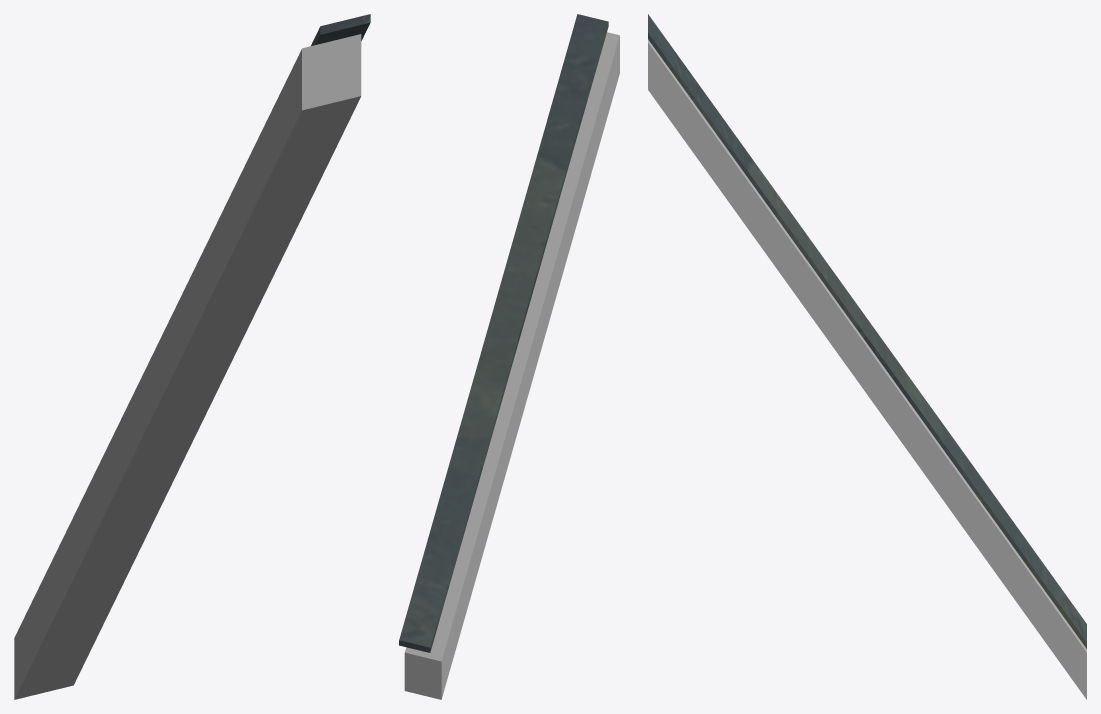
File: CM_SlateRoofKit01_Verge2m_56p9.fbx
3 views of the same model, side by side, from view 1: azimuth 30°, elevation 25°; view 2: azimuth 150°, elevation 25°; view 3: azimuth 270°, elevation 25° (orthographic). The views are drawn at different scales.
Parts seen in each view (by area): view 1: CM_SlateRoofKit01_Verge2m_56p9_Timber, CM_SlateRoofKit01_Verge2m_56p9_Slate; view 2: CM_SlateRoofKit01_Verge2m_56p9_Slate, CM_SlateRoofKit01_Verge2m_56p9_Timber; view 3: CM_SlateRoofKit01_Verge2m_56p9_Timber, CM_SlateRoofKit01_Verge2m_56p9_Slate.
Boxes of the visible parts, x1,y1,x2,y2 form: CM_SlateRoofKit01_Verge2m_56p9_Timber: (14, 34, 361, 699); CM_SlateRoofKit01_Verge2m_56p9_Slate: (311, 14, 370, 45); CM_SlateRoofKit01_Verge2m_56p9_Slate: (399, 14, 608, 652); CM_SlateRoofKit01_Verge2m_56p9_Timber: (404, 32, 619, 699); CM_SlateRoofKit01_Verge2m_56p9_Timber: (648, 39, 1086, 699); CM_SlateRoofKit01_Verge2m_56p9_Slate: (648, 14, 1086, 648).
Size of the model in its own units: 0.15 by 1.84 by 1.09.
